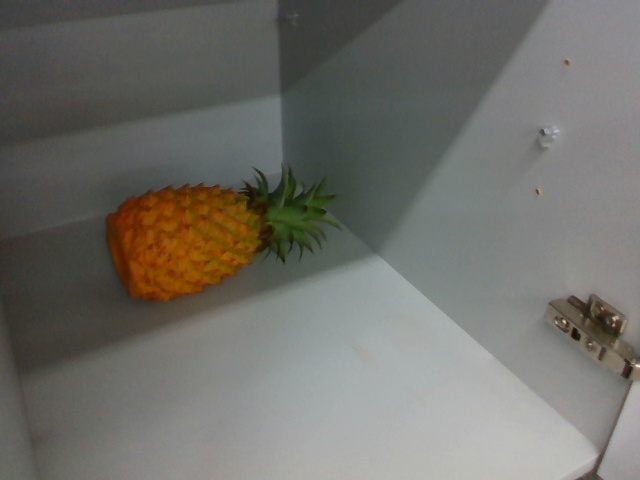pineapple: (103, 169, 340, 289)
